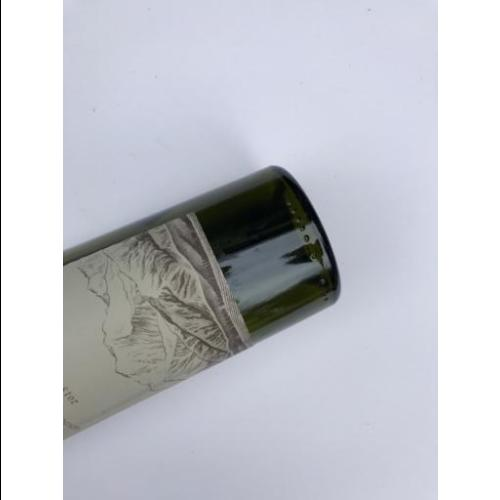glass: (63, 167, 339, 438)
